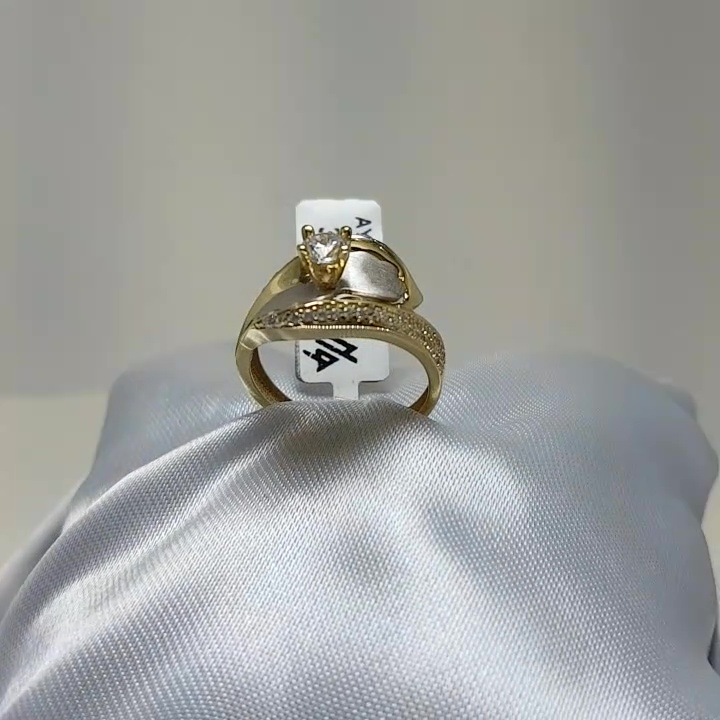Ring 6: (228, 210, 450, 448)
